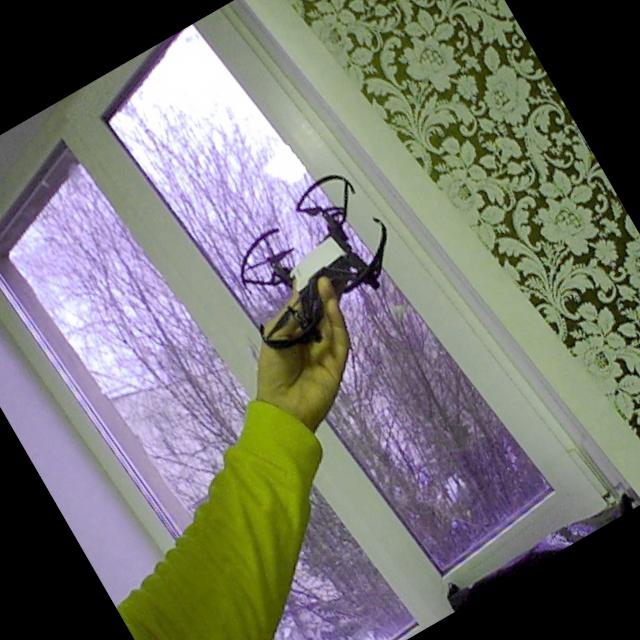drone: (203, 155, 430, 376)
